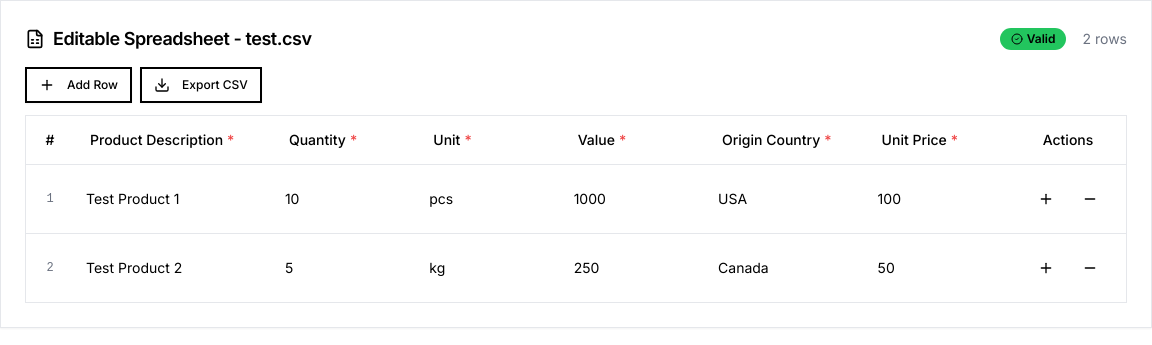
Test: EditableSpreadsheet Component › Validation › disables save when validation errors exist
Create validation error by editing to empty value
Click the text "Test Product 1" at {"x": 133, "y": 198}, box [86,188,180,208]
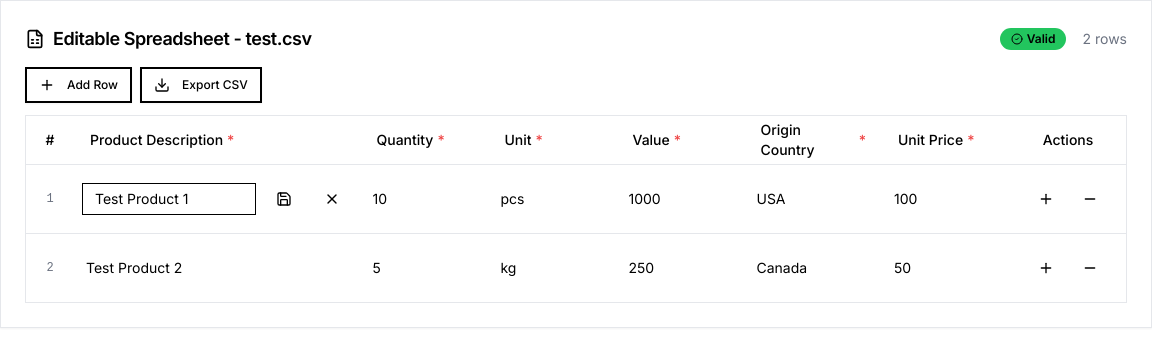
Clear the field showing "Test Product 1" at {"x": 169, "y": 198}, box [82,182,256,214]
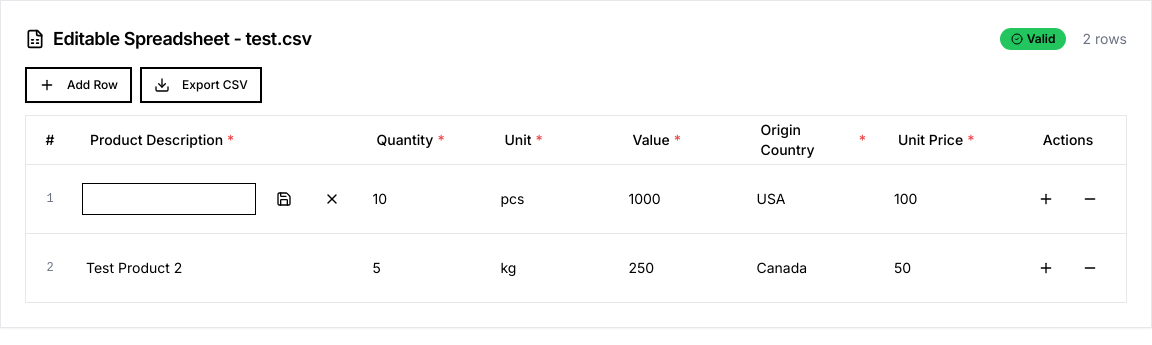
Click the button titled "Save edit" at {"x": 284, "y": 198}, box [264,180,304,216]
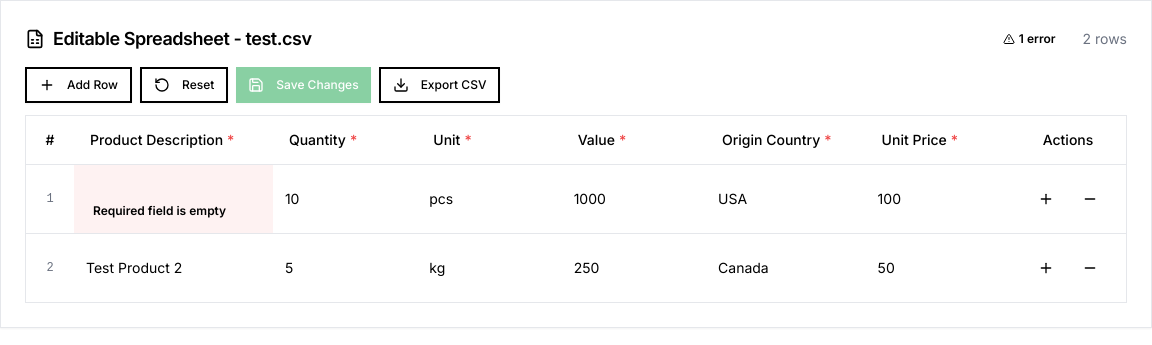
Result: the button "Save Changes" is disabled at [236,67,371,103]
